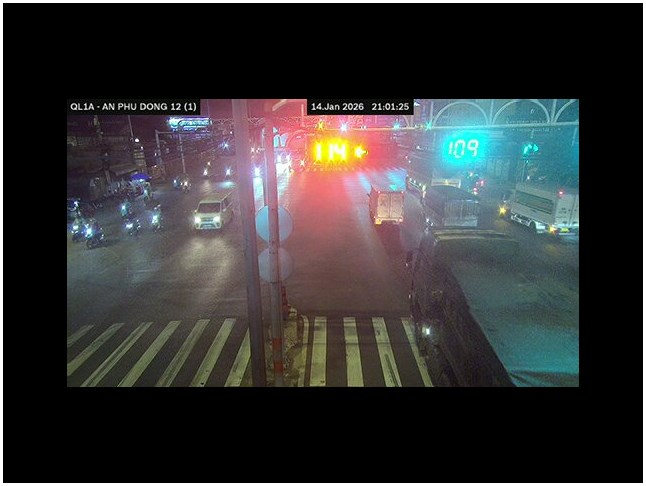car: (190, 192, 235, 231)
